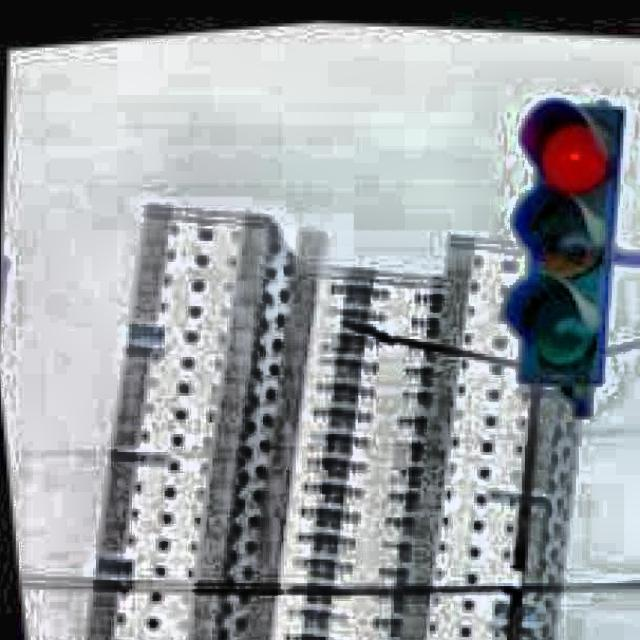red: (512, 105, 619, 389)
